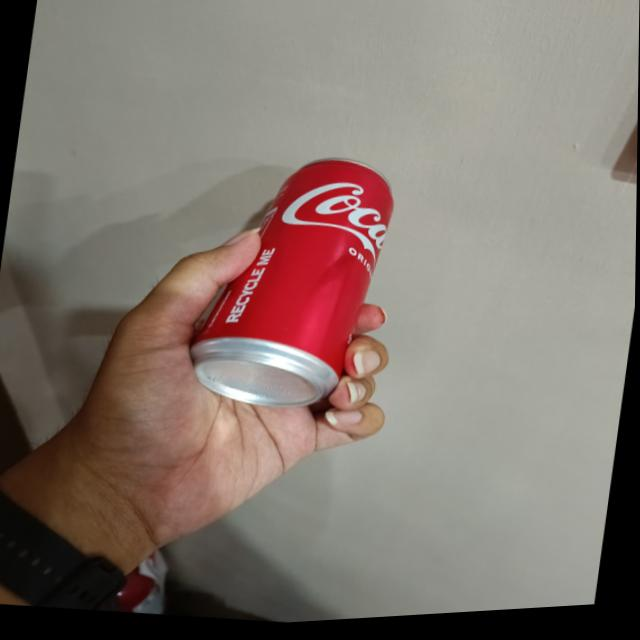coke: (183, 144, 401, 429)
